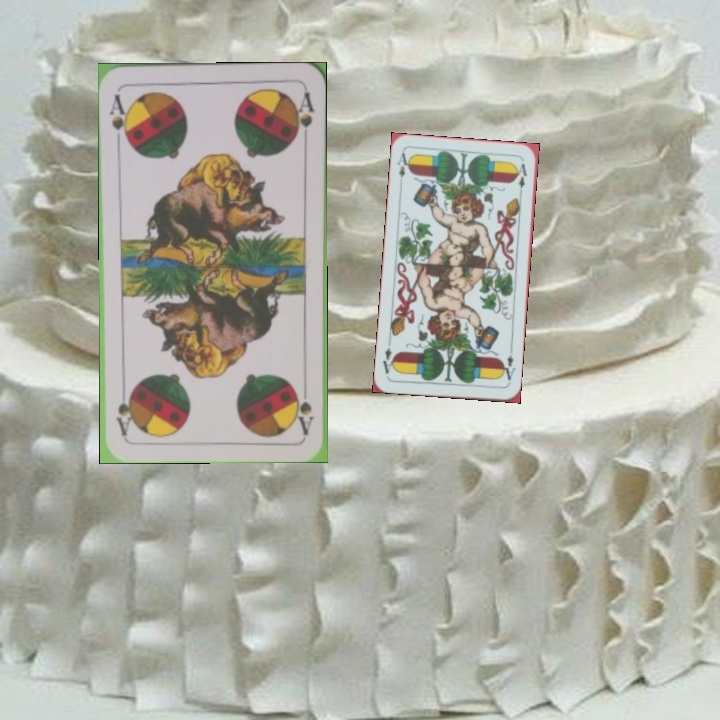EA: (393, 149, 413, 189), (498, 350, 518, 386)
SA: (106, 90, 132, 147), (292, 377, 316, 436)
